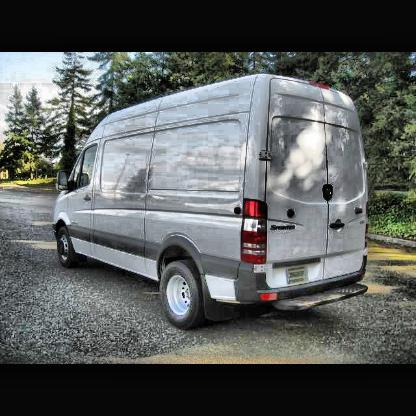Mercedes-Benz Sprinter Van 2012: (52, 73, 371, 325)
